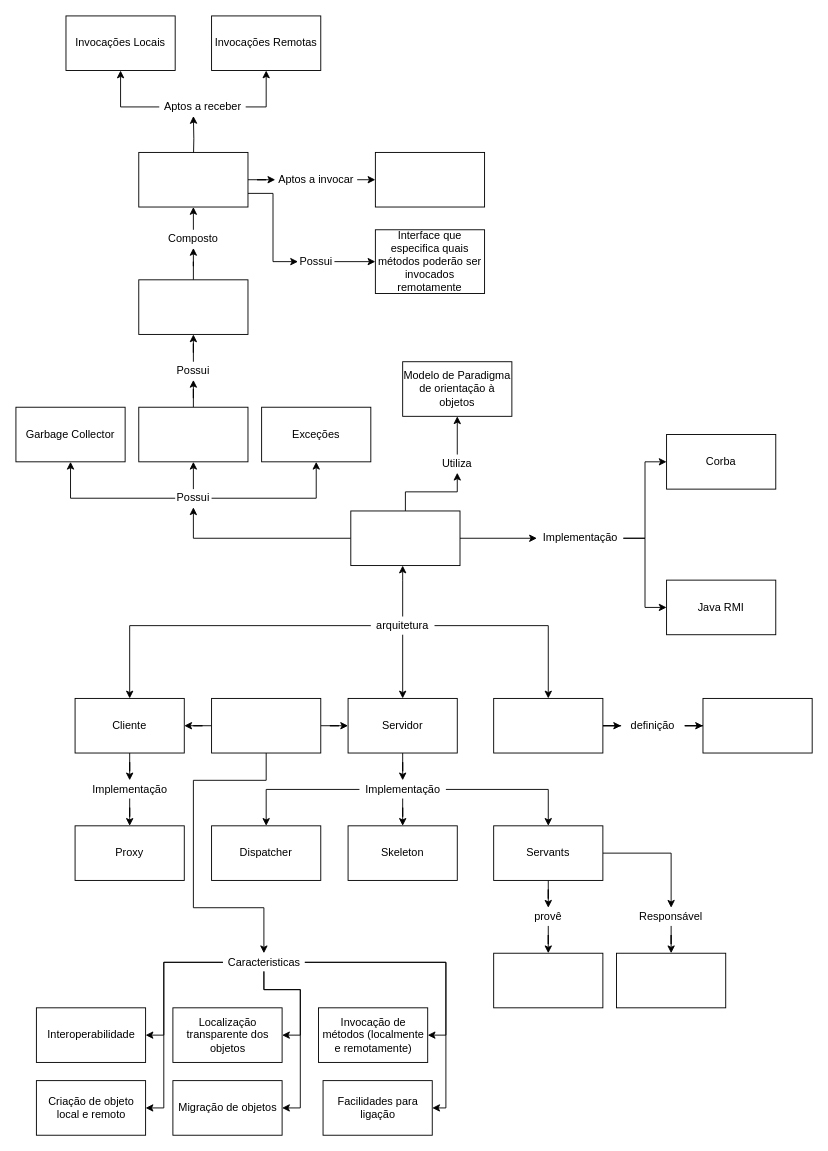
Image size: 828x1151. Some labels were removed from this diagram. Each missing label, with the centre of its shape:
"Coleção de Objetos" belongs at (x=193, y=306).
"Mesmo objeto replicado em todas as máquinas do SD" belongs at (x=757, y=725).
"Middleware" belongs at (x=266, y=725).
"Métodos de outros objetos que possua a referência" belongs at (x=429, y=179).
"Objetos" belongs at (x=193, y=179).
"Objetos Remotos" belongs at (x=548, y=980).
"por receber as invocações remotas" belongs at (x=671, y=980).
"Processos" belongs at (x=193, y=434).
"Replicação" belongs at (x=548, y=725).
"RMI" belongs at (x=405, y=538).
